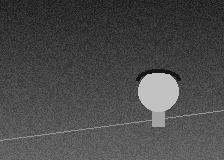no_helmet: (138, 69, 178, 116)
